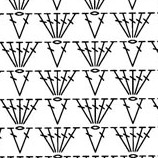enseble_chain: (50, 66, 86, 103), (124, 6, 158, 45), (86, 36, 122, 72), (89, 94, 124, 130), (50, 122, 85, 158), (125, 64, 158, 102), (14, 37, 47, 74), (50, 9, 84, 44), (106, 120, 138, 157), (69, 93, 99, 129), (107, 66, 137, 101), (129, 121, 158, 157), (108, 8, 137, 44), (122, 39, 152, 71), (46, 97, 76, 128), (85, 125, 114, 157), (34, 66, 61, 100), (72, 38, 99, 72), (87, 68, 115, 100), (36, 123, 62, 157), (48, 40, 76, 71), (126, 96, 152, 128), (36, 8, 61, 41), (13, 69, 39, 100), (12, 126, 38, 157), (12, 12, 38, 43), (87, 11, 113, 41), (0, 96, 24, 128), (15, 98, 33, 124), (91, 0, 103, 11)
fan: (0, 38, 24, 72), (0, 95, 24, 129), (4, 125, 25, 156), (5, 68, 25, 98), (50, 69, 66, 97), (15, 98, 31, 125), (125, 70, 141, 96), (50, 12, 65, 38)
